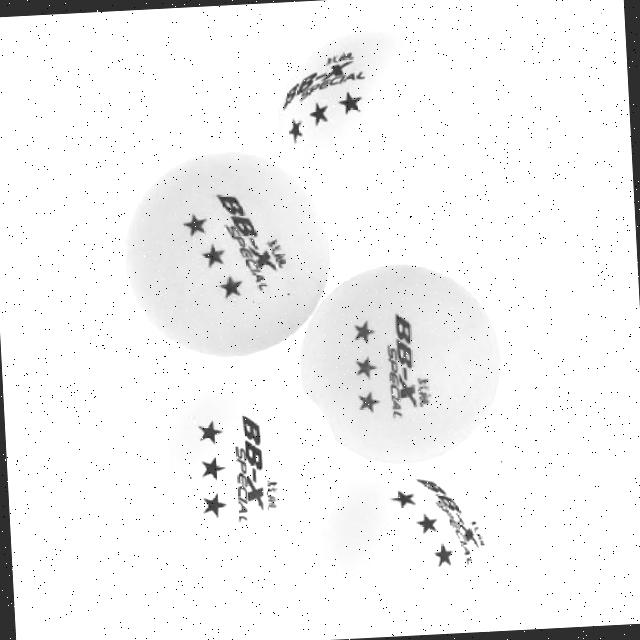ping-pong-ball: (118, 356, 354, 596), (113, 140, 342, 366), (287, 252, 514, 476), (268, 16, 490, 238), (280, 455, 513, 640)
